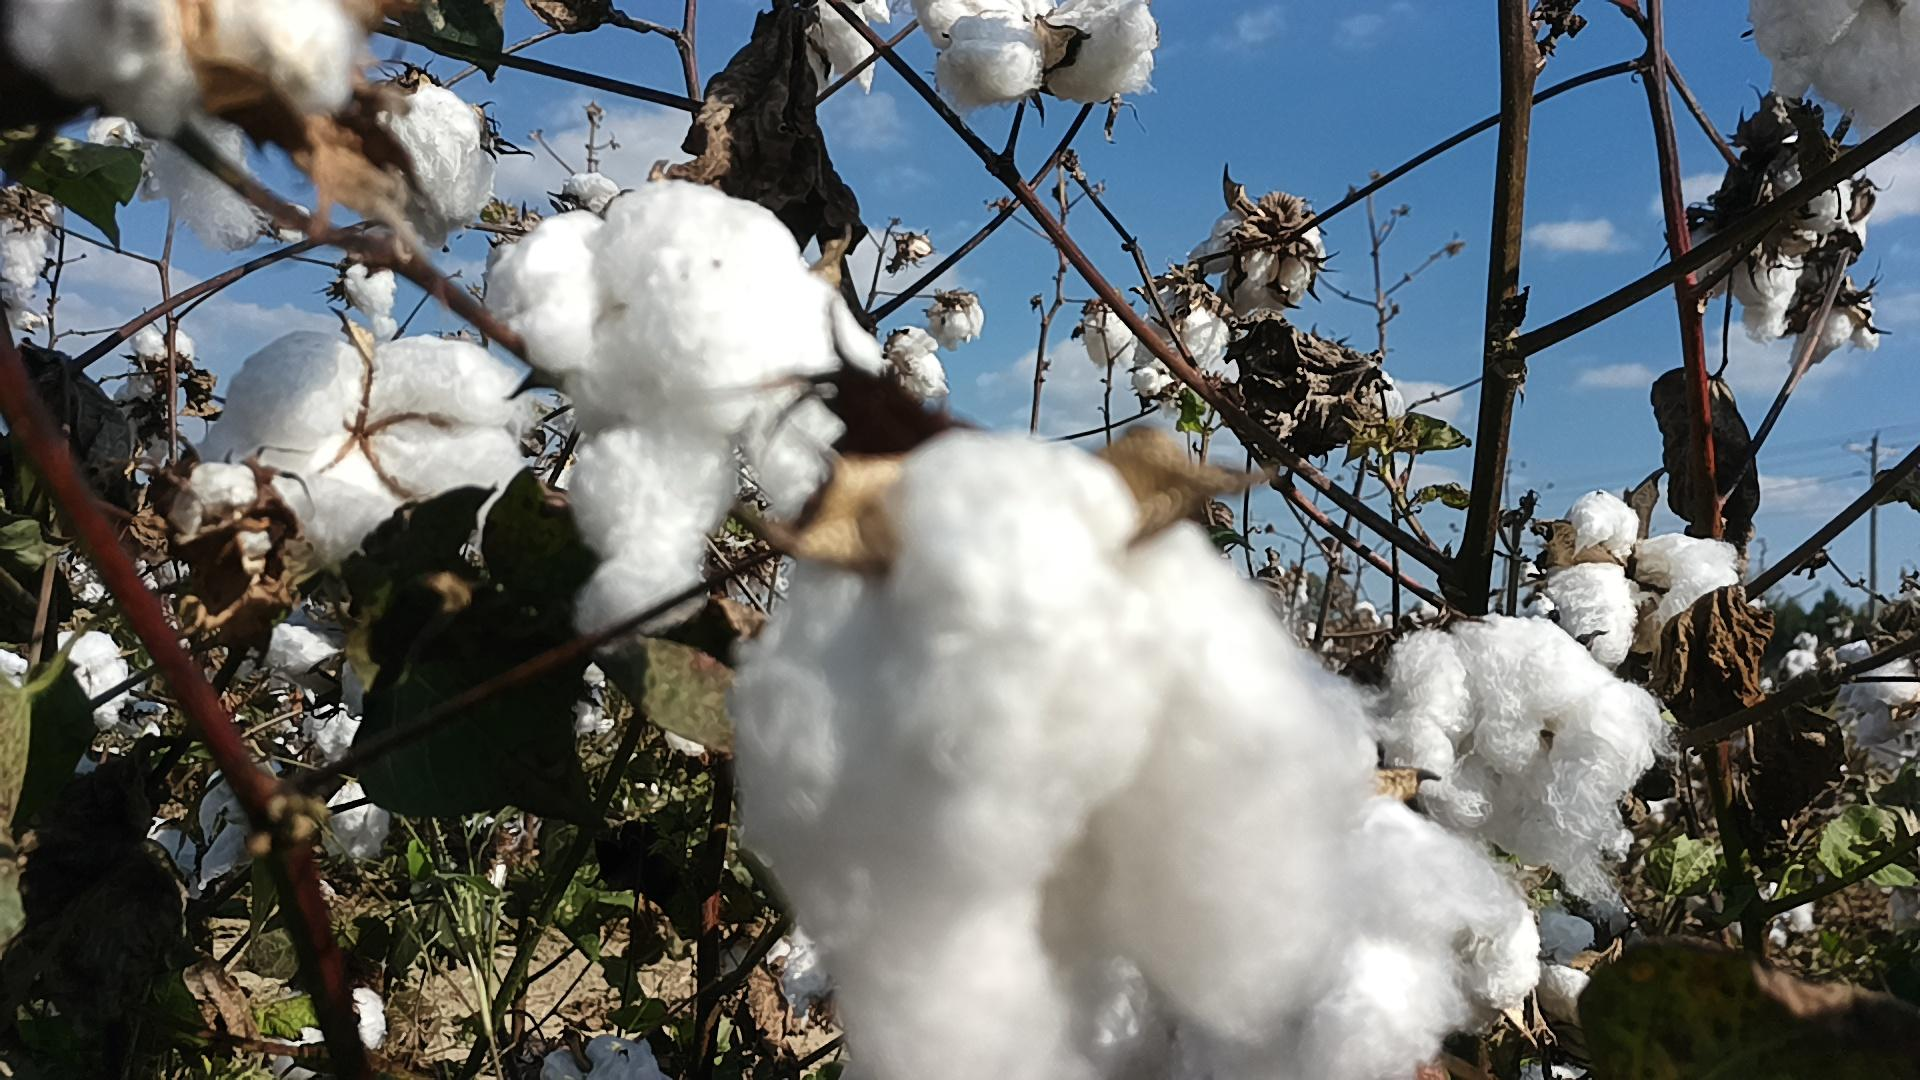cotton_ready: (738, 433, 1375, 1080), (483, 173, 882, 644), (1168, 803, 1545, 1080), (8, 0, 363, 256), (1379, 613, 1668, 903), (202, 328, 527, 568), (1532, 485, 1743, 663), (930, 0, 1158, 111), (1750, 0, 1920, 145), (368, 80, 496, 235), (1680, 203, 1816, 343), (1751, 102, 1878, 243), (1189, 203, 1328, 313), (170, 463, 287, 571), (1138, 281, 1233, 384), (1836, 636, 1920, 750), (802, 0, 898, 98), (0, 190, 69, 305), (1792, 289, 1888, 363), (539, 1035, 680, 1080)
